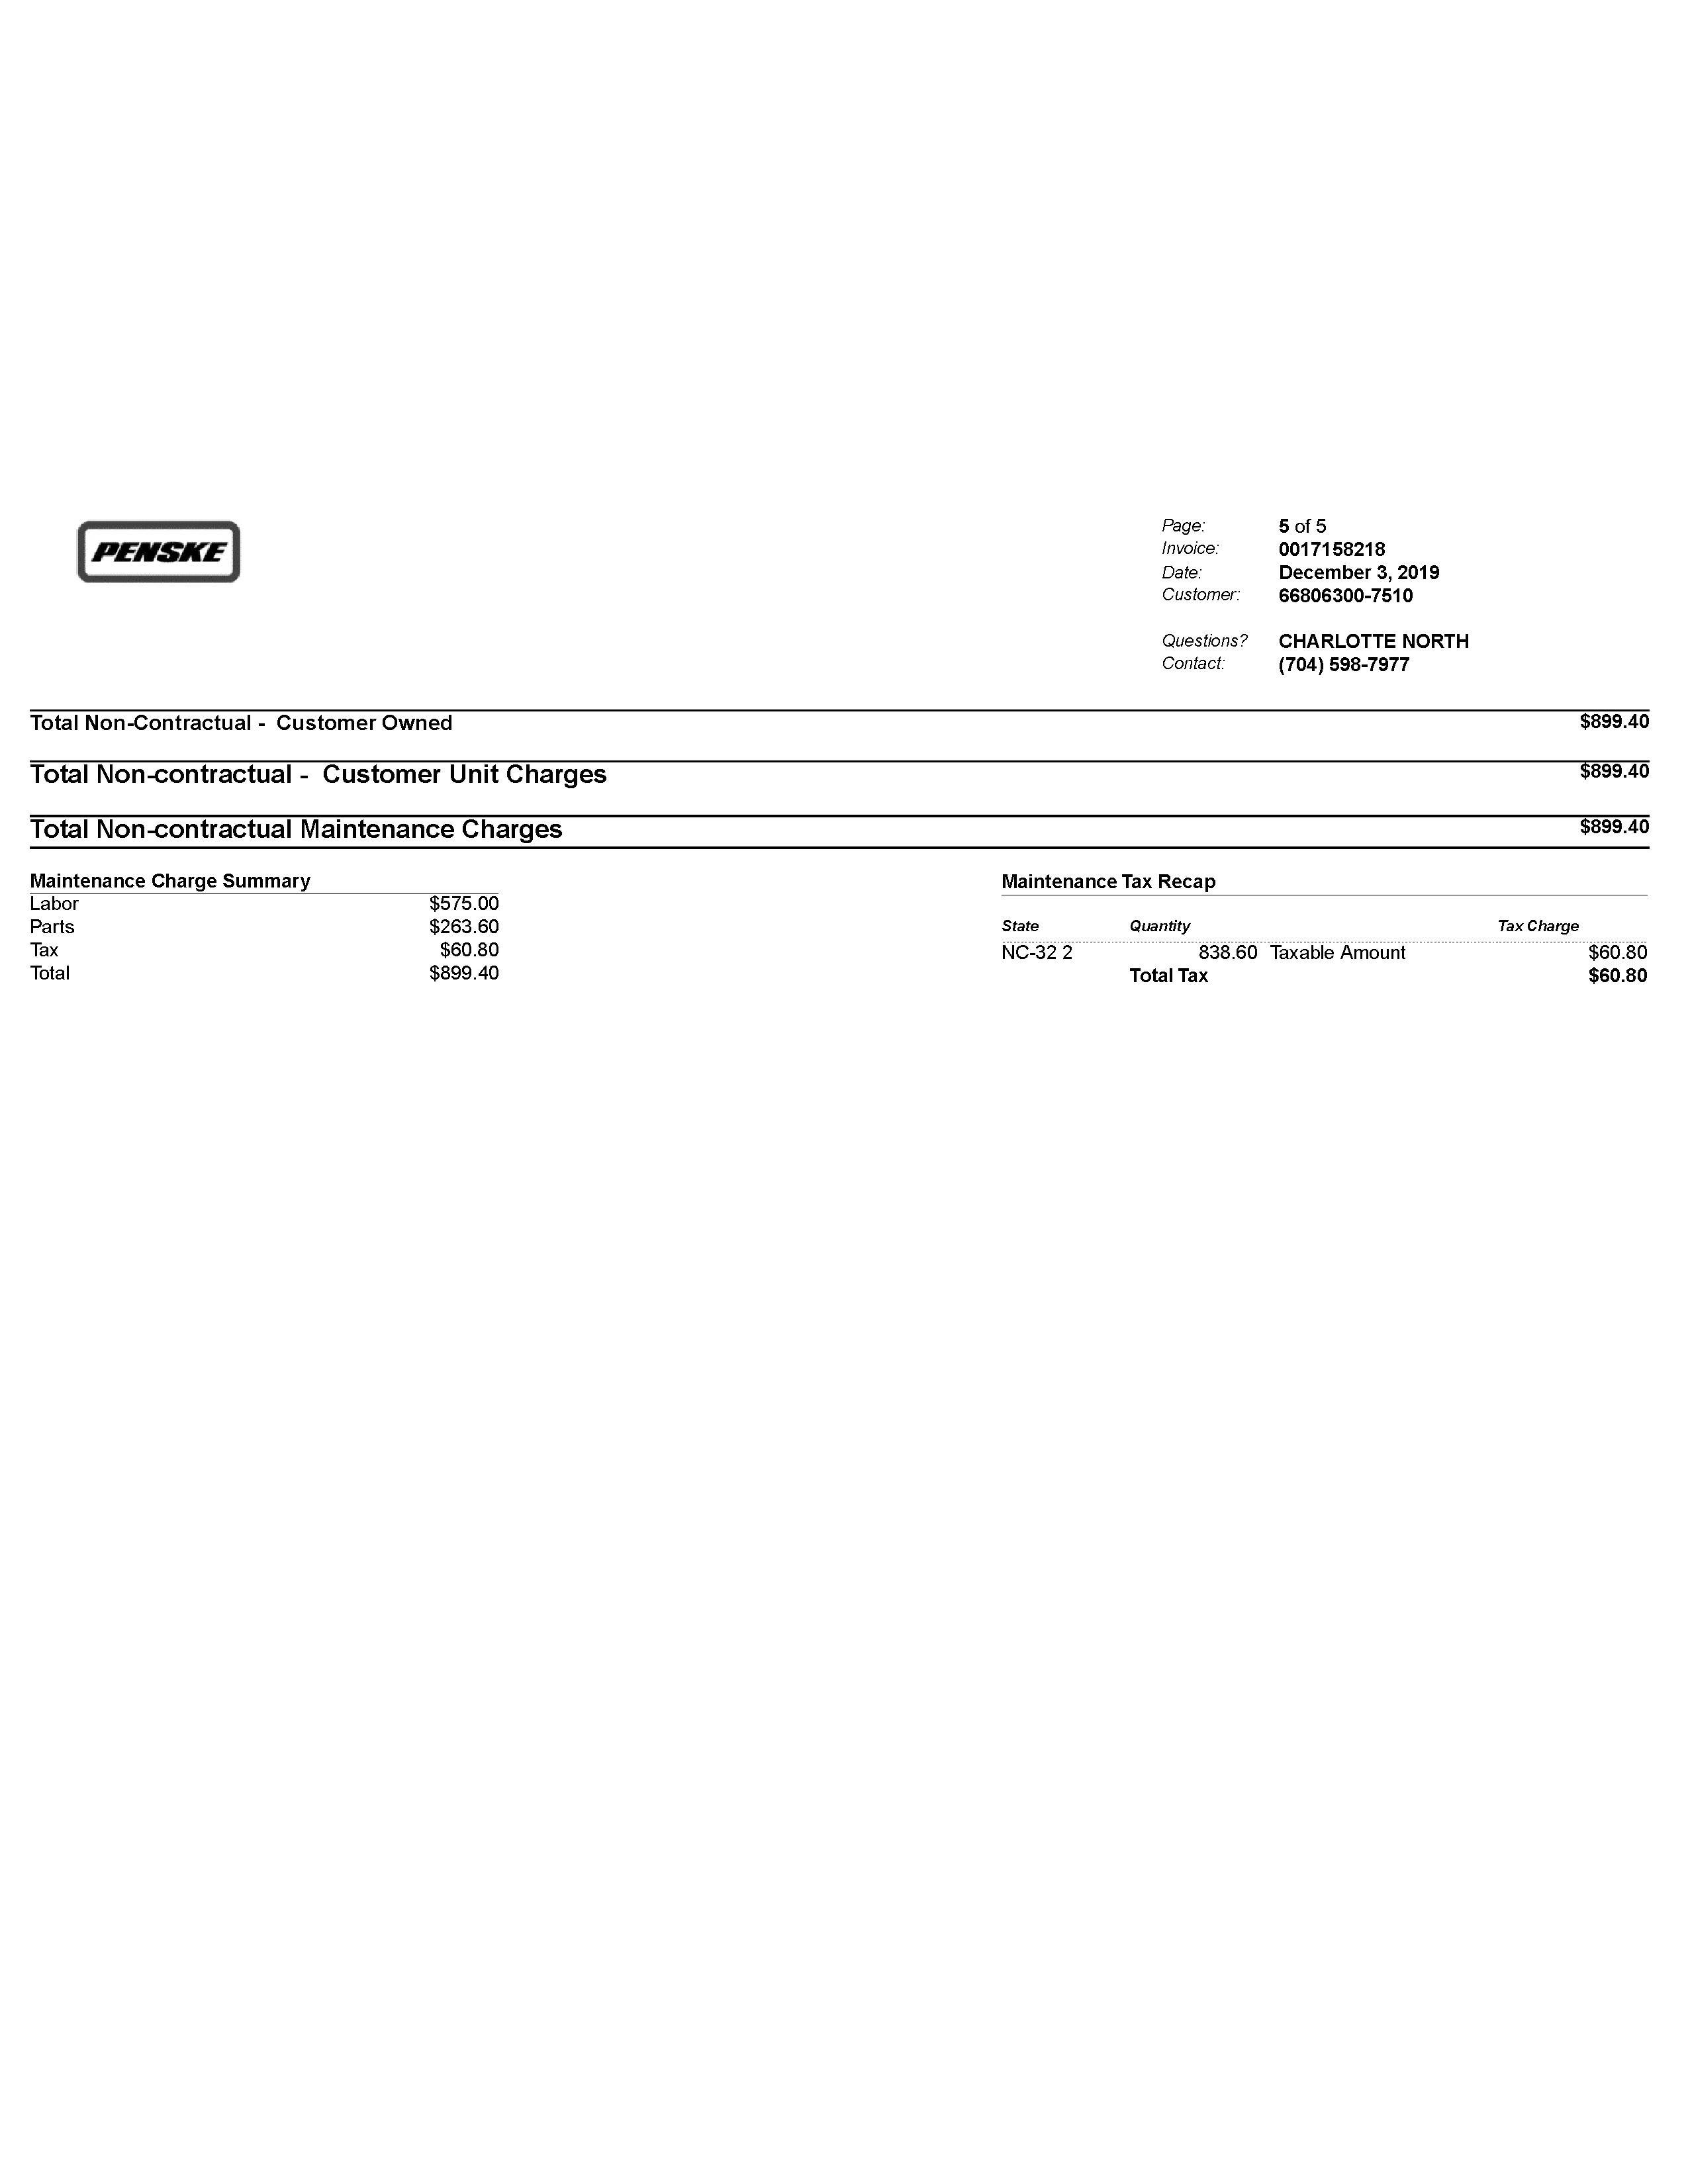B_Paragraph: (1153, 505, 1482, 688)
B_SubTitle: (35, 867, 310, 897), (998, 862, 1229, 895)
B_Table: (20, 698, 1651, 851), (1004, 913, 1656, 998), (30, 886, 507, 1002)
B_Title: (71, 516, 248, 601)
